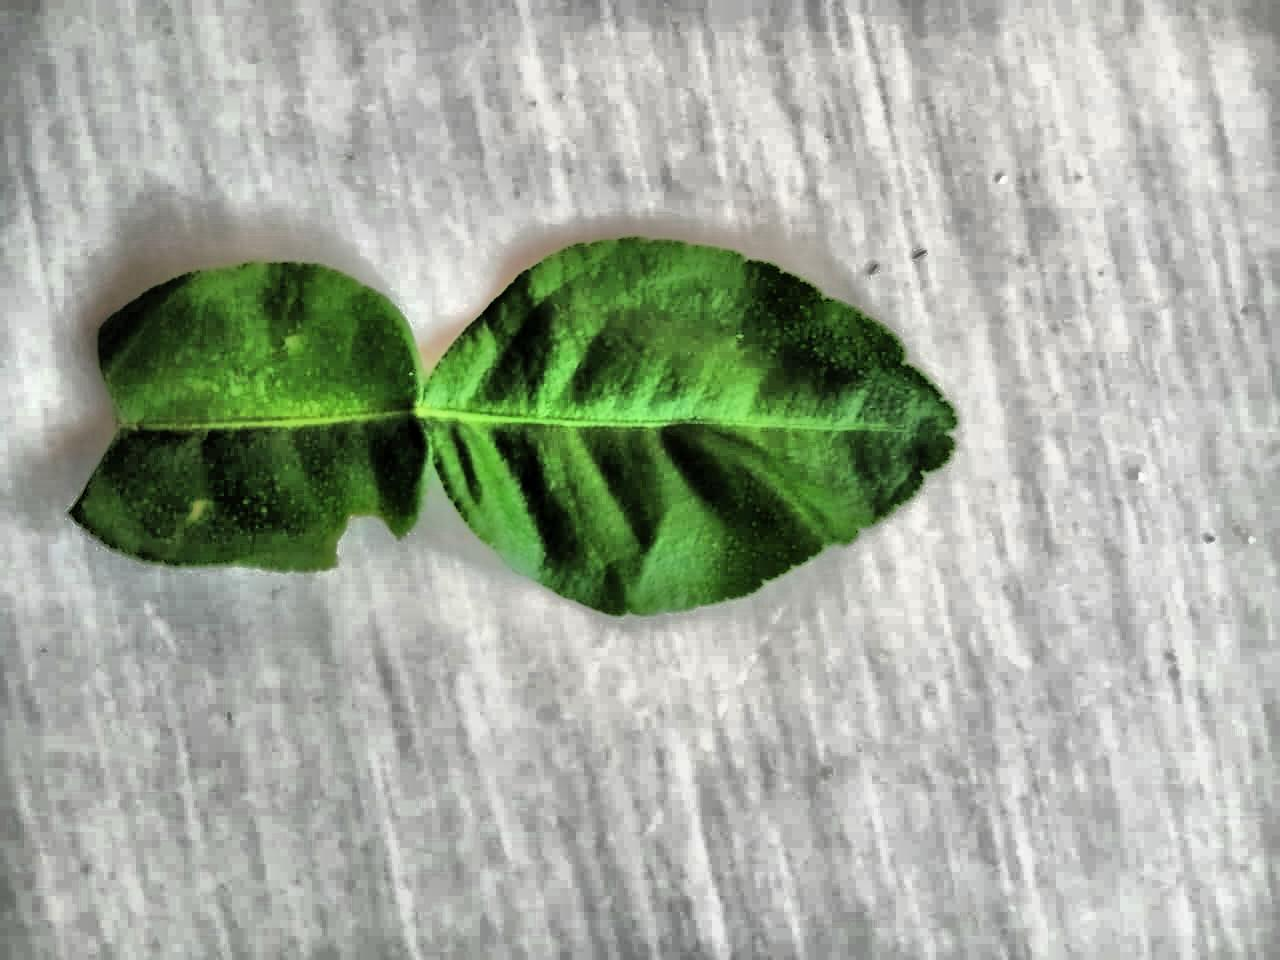daun jeruk: (69, 237, 957, 615)
